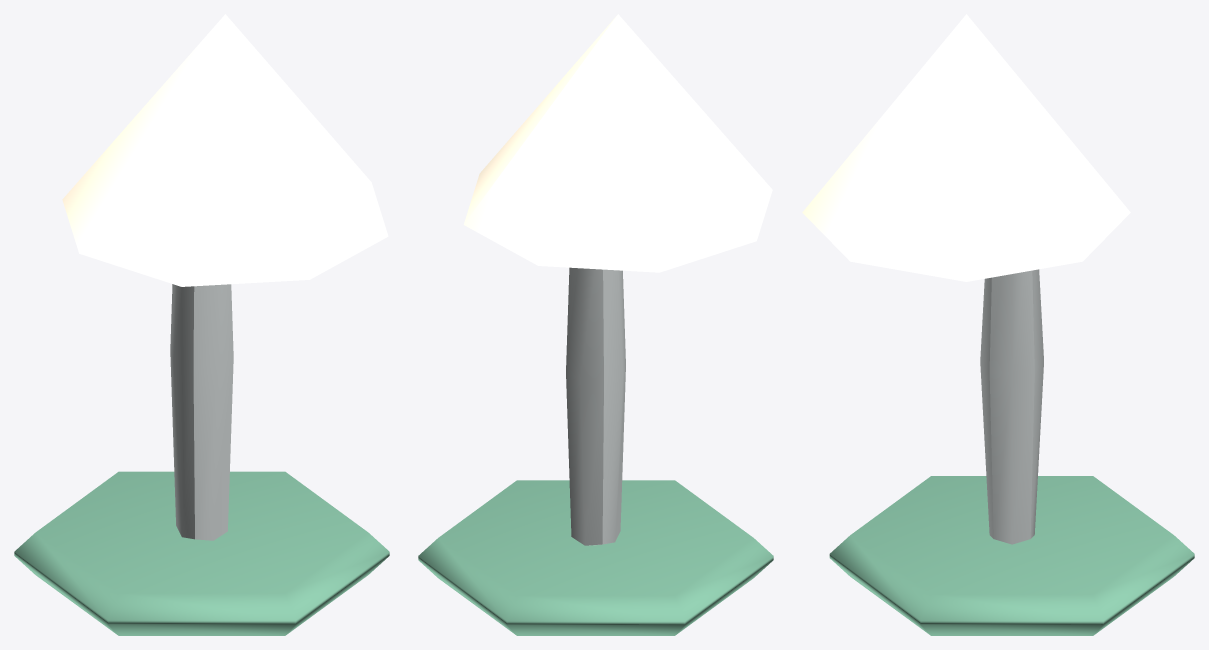
File: desk-lamp.glb
The picture shows the model from 3 angles, left to right: view 1: azimuth 30°, elevation 25°; view 2: azimuth 150°, elevation 25°; view 3: azimuth 270°, elevation 25°; orthographic projection. The views are drawn at different scales.
Parts seen in each view (by area): view 1: part (×2), shade; view 2: part (×2), shade; view 3: part (×2), shade.
Part boxes in pixels (bbox=[...]): part (×2): bbox=[14, 284, 389, 635]; shade: bbox=[62, 14, 388, 286]; part (×2): bbox=[418, 267, 773, 635]; shade: bbox=[463, 14, 772, 272]; part (×2): bbox=[829, 269, 1194, 635]; shade: bbox=[802, 14, 1130, 281].
Bounding box in the file's own units: 0.18 × 0.34 × 0.215.
Materials: 2 (2 with a texture image).
